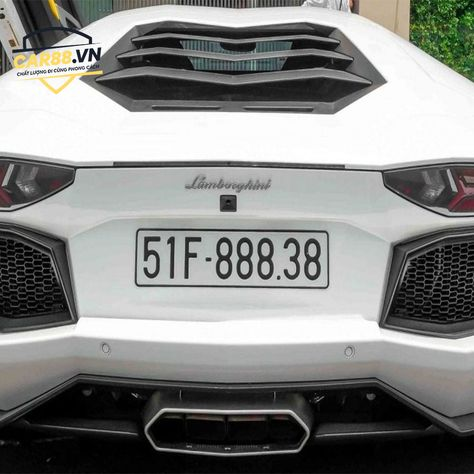number-plate: (135, 227, 332, 288)
